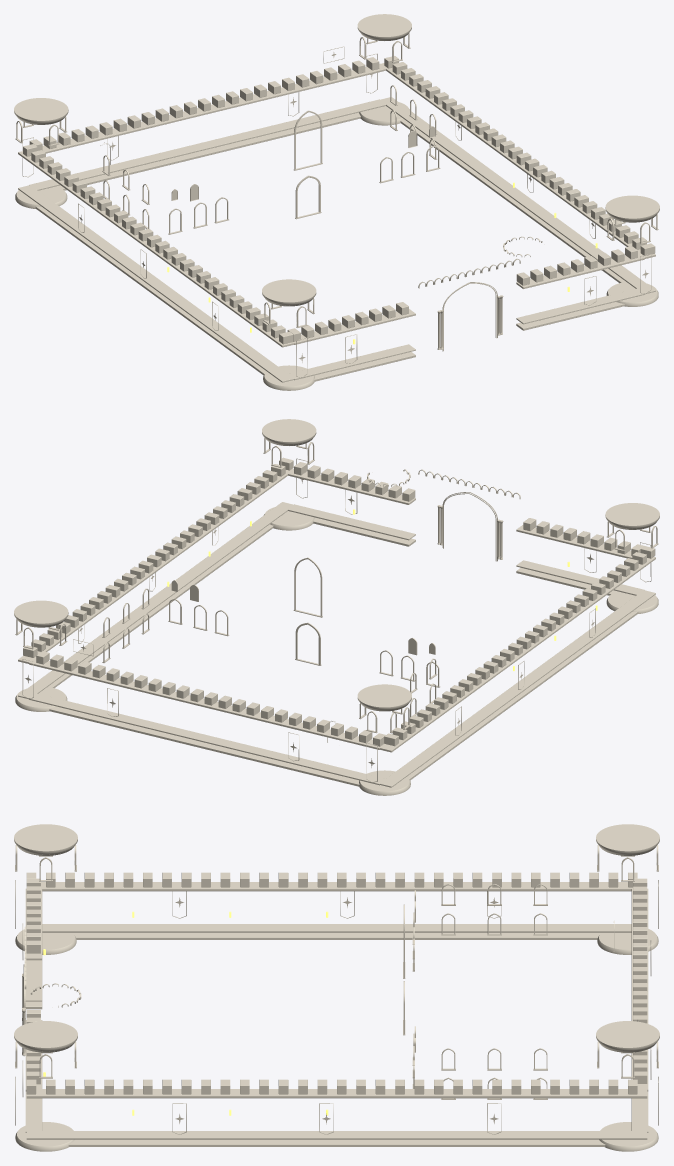
File: castle-06.glb
3 renders of one model, top to bottom at view 1: azimuth 30°, elevation 25°; view 2: azimuth 150°, elevation 25°; view 3: azimuth 270°, elevation 25°, orthographic. The views are drawn at different scales.
Visible parts, largest first — view 1: NC.Export.Fortifications.IvoryStone.01, NC.Export.Fortifications.IvoryStone.00, NC.Export.Palace.IvoryStone.00, NC.Export.Gatehouse.IvoryStone.01; view 2: NC.Export.Fortifications.IvoryStone.01, NC.Export.Fortifications.IvoryStone.00, NC.Export.Palace.IvoryStone.00, NC.Export.Gatehouse.IvoryStone.01; view 3: NC.Export.Fortifications.IvoryStone.01, NC.Export.Fortifications.IvoryStone.00, NC.Export.Palace.IvoryStone.00, NC.Export.Gatehouse.IvoryStone.01.
Part boxes in pixels (<box>): NC.Export.Fortifications.IvoryStone.01: <box>14,14,655,382</box>; NC.Export.Fortifications.IvoryStone.00: <box>23,56,659,390</box>; NC.Export.Palace.IvoryStone.00: <box>100,85,440,234</box>; NC.Export.Gatehouse.IvoryStone.01: <box>418,236,544,351</box>; NC.Export.Fortifications.IvoryStone.01: <box>14,440,656,795</box>; NC.Export.Fortifications.IvoryStone.00: <box>23,419,659,746</box>; NC.Export.Palace.IvoryStone.00: <box>102,557,440,742</box>; NC.Export.Gatehouse.IvoryStone.01: <box>367,469,520,561</box>; NC.Export.Fortifications.IvoryStone.01: <box>15,824,659,1151</box>; NC.Export.Fortifications.IvoryStone.00: <box>14,824,647,1151</box>; NC.Export.Palace.IvoryStone.00: <box>403,884,614,1099</box>; NC.Export.Gatehouse.IvoryStone.01: <box>22,926,81,1056</box>.
Size of the model in its own units: 109 by 30.84 by 133.
